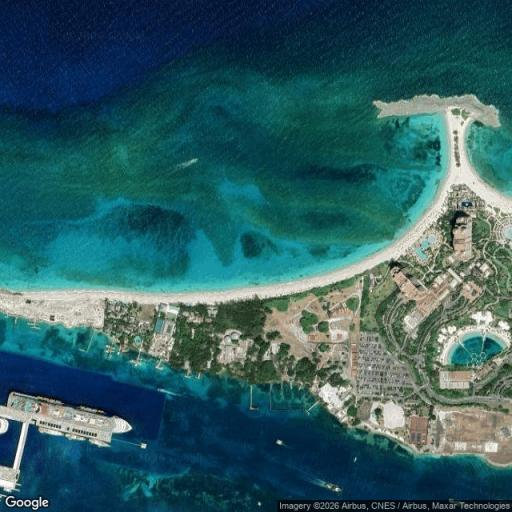ship: (8, 391, 137, 434), (304, 475, 345, 494)
